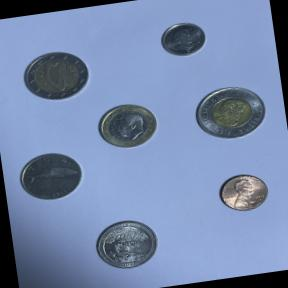coin: (187, 78, 274, 148), (16, 44, 97, 110), (12, 146, 88, 208), (88, 214, 164, 275), (90, 96, 162, 154), (212, 168, 272, 218), (154, 17, 212, 64)
